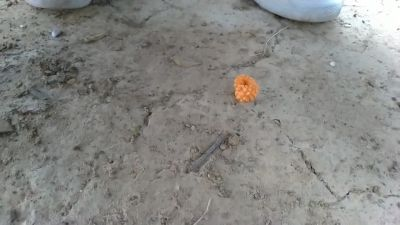eggs: (230, 71, 259, 106)
